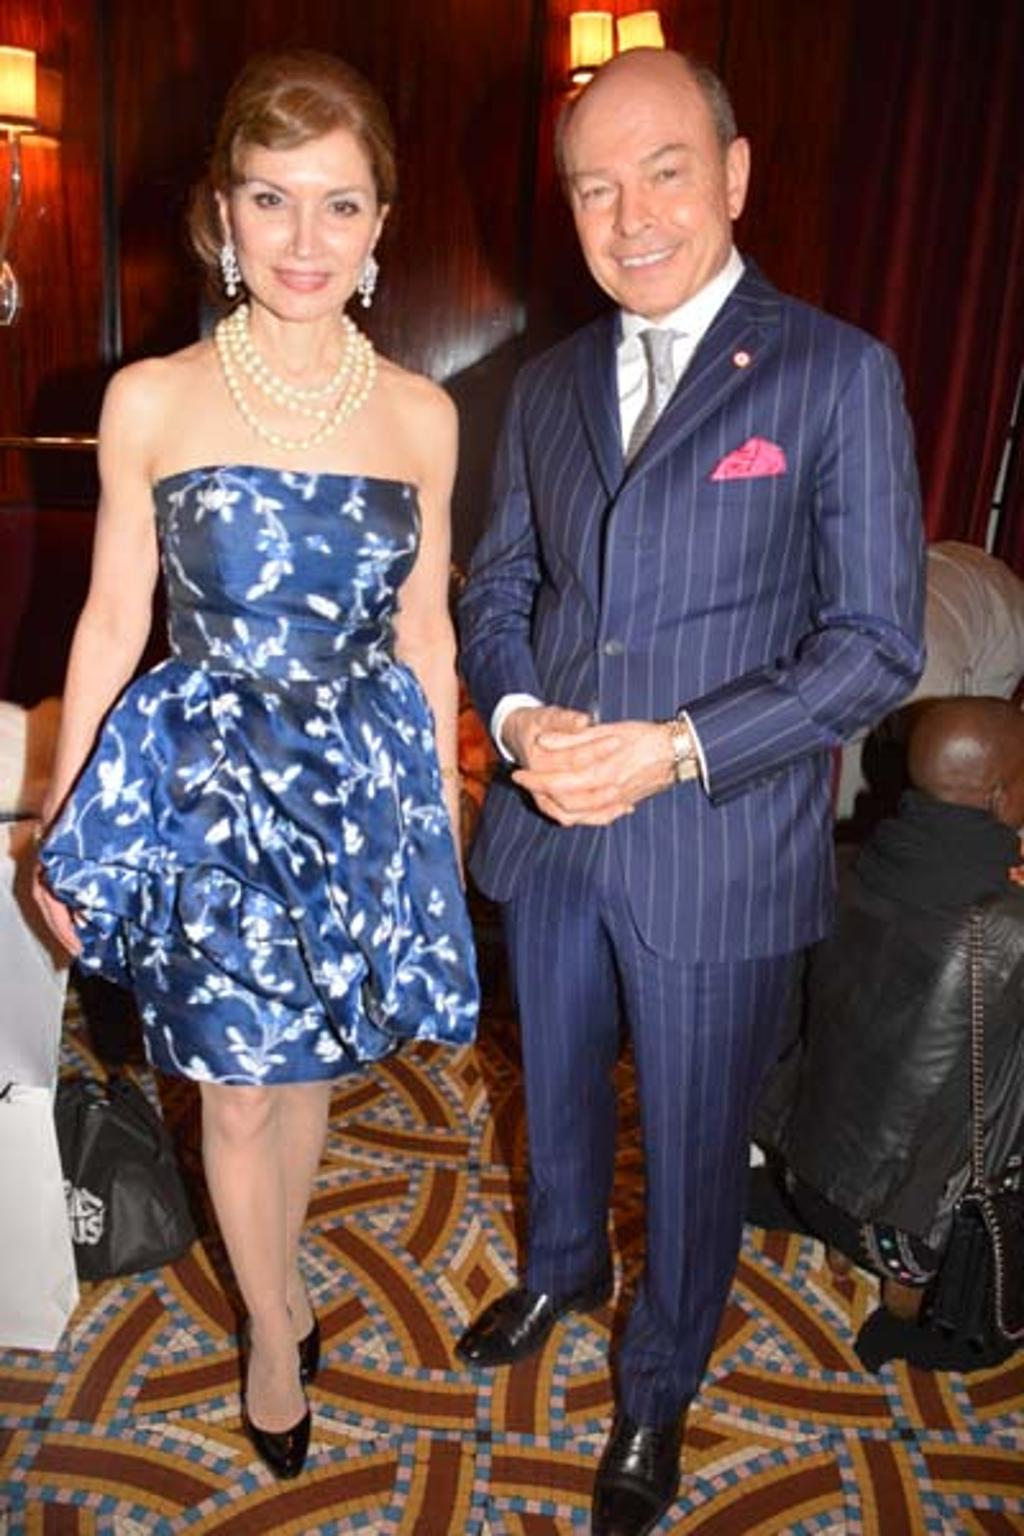face: (571, 93, 718, 318), (231, 129, 378, 318)
